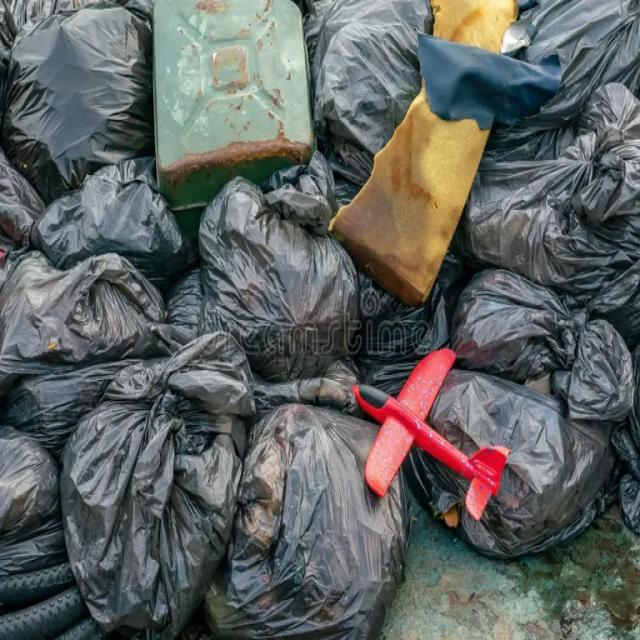normal_waste: (68, 335, 247, 632), (456, 0, 640, 256), (338, 0, 511, 248), (228, 393, 406, 624), (442, 379, 600, 558), (205, 190, 354, 378), (164, 0, 310, 173), (463, 270, 632, 416), (6, 4, 154, 168), (309, 5, 443, 184), (358, 371, 503, 528), (0, 257, 170, 376), (26, 192, 187, 260), (364, 264, 436, 368), (1, 418, 64, 530)
